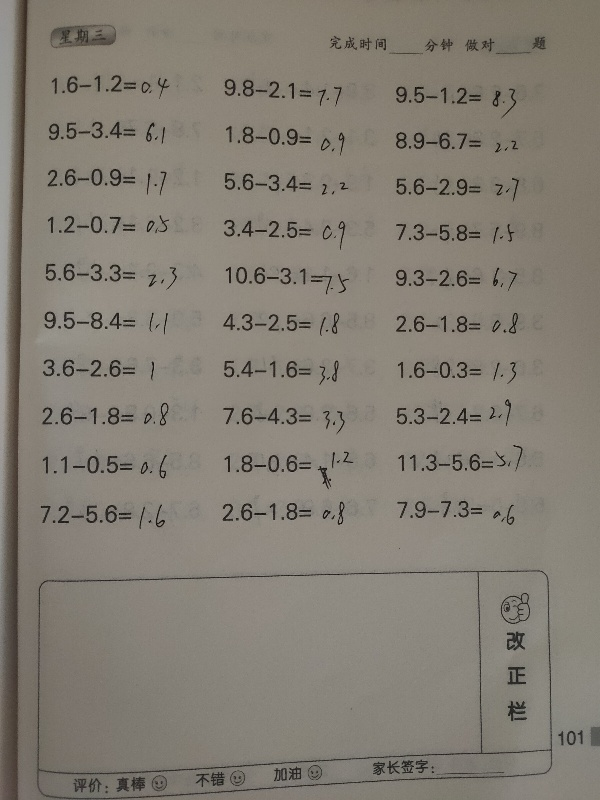equation: (220, 261, 359, 303), (35, 495, 171, 535), (388, 216, 527, 255), (39, 303, 176, 341), (39, 257, 183, 293), (36, 353, 167, 392), (388, 263, 525, 300), (391, 83, 519, 120), (221, 399, 349, 436), (217, 499, 356, 533), (43, 163, 180, 197), (44, 113, 177, 148), (220, 216, 348, 252), (37, 399, 181, 431), (220, 308, 351, 343), (391, 171, 529, 204), (395, 441, 527, 475), (389, 308, 529, 340), (220, 444, 360, 476), (392, 357, 527, 389), (392, 397, 525, 429), (43, 208, 172, 240), (40, 452, 171, 483), (220, 356, 343, 388), (221, 124, 348, 154), (47, 70, 173, 100), (393, 496, 519, 525), (220, 77, 345, 106), (391, 128, 521, 155), (220, 171, 351, 196)
